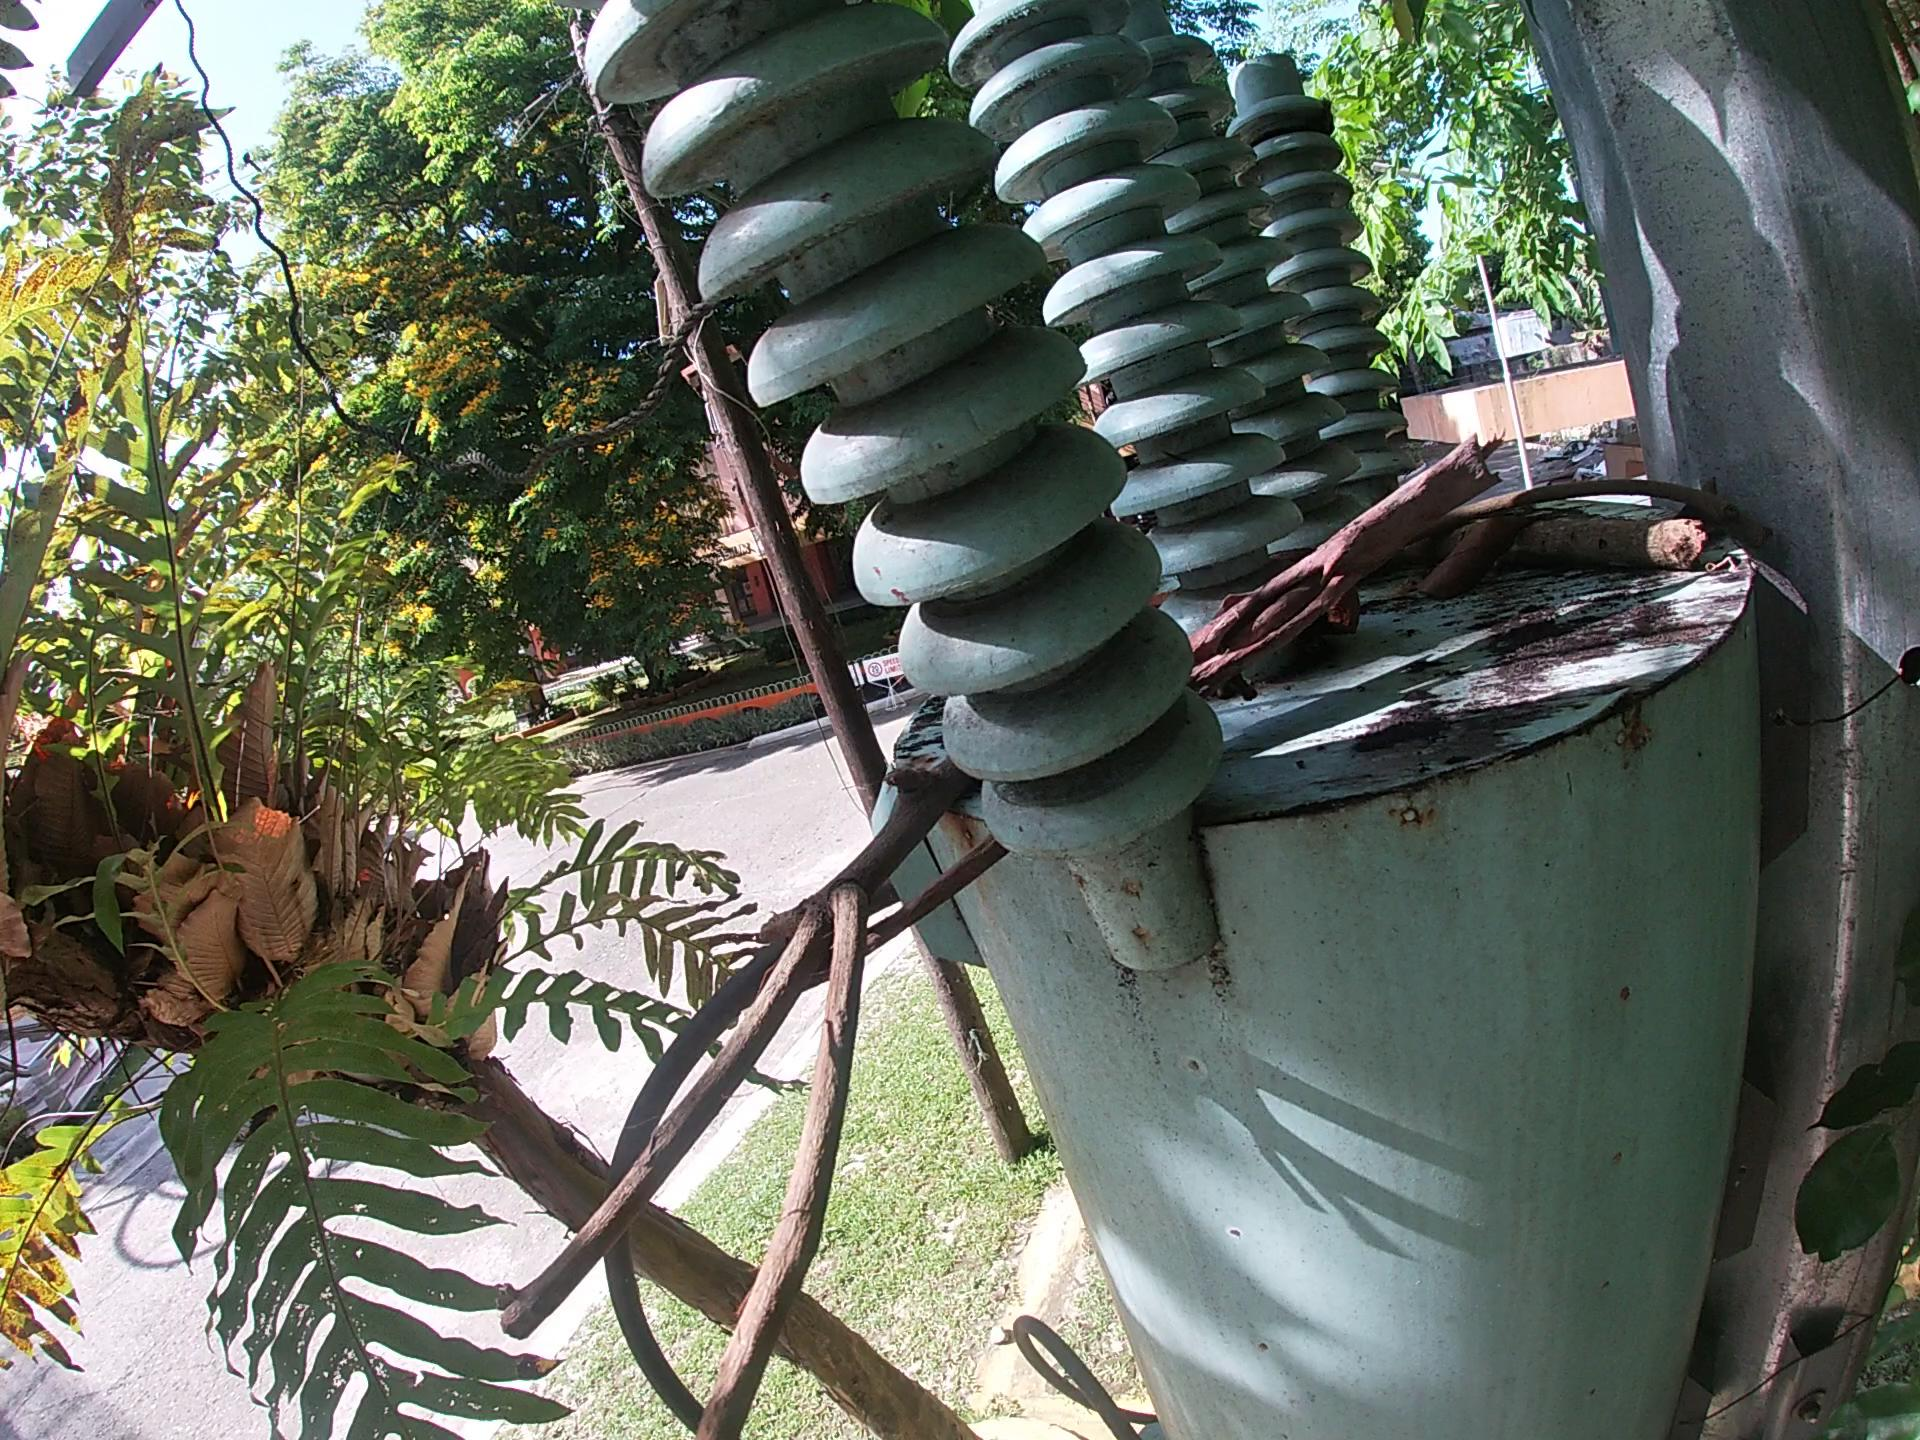leaf: (1400, 502, 1534, 613)
tree branch: (487, 746, 978, 1440), (1181, 422, 1507, 708), (783, 827, 1011, 998), (1445, 472, 1782, 548), (1445, 510, 1708, 581)
